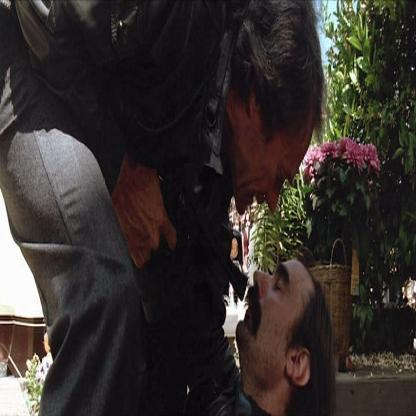gun: (160, 143, 251, 326)
